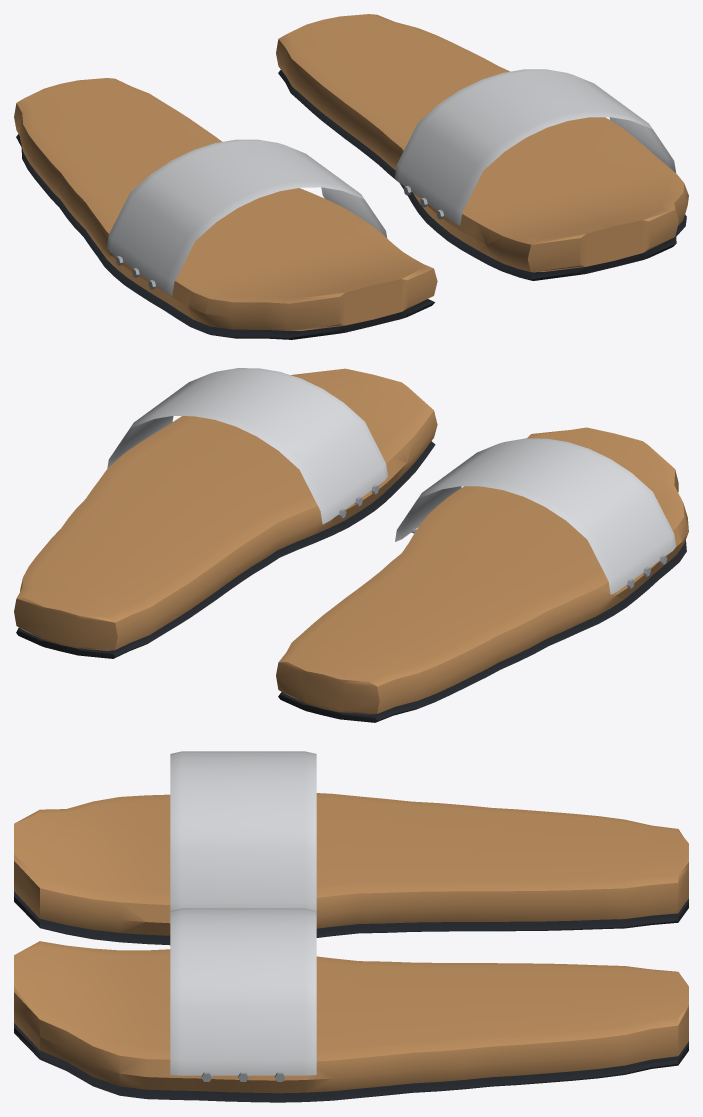
Rendered from guoc_moc_vn.mid.glb.
3 views of the same model, one above another, from view 1: azimuth 30°, elevation 25°; view 2: azimuth 150°, elevation 25°; view 3: azimuth 270°, elevation 25° (orthographic). The views are drawn at different scales.
Parts seen in each view (by area): view 1: guoc_moc_vn; view 2: guoc_moc_vn; view 3: guoc_moc_vn.
Boxes of the visible parts, <box> form: guoc_moc_vn: <box>14,14,688,339</box>; guoc_moc_vn: <box>14,368,688,722</box>; guoc_moc_vn: <box>14,751,688,1102</box>.
Size of the model in its own units: 0.2494 by 0.0504 by 0.2537.
